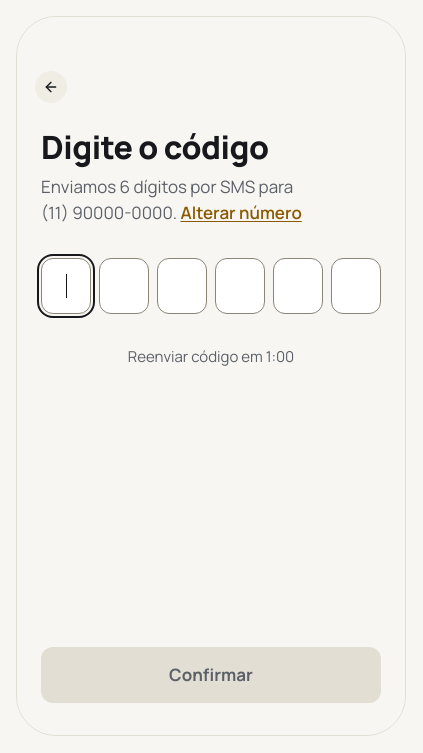
Test: SignInCodePage (screen 04) › "Alterar número" goes back to the phone with the number filled in
Click the button "Alterar número" at point(241, 213), box x1=180 y1=200 x2=302 y2=226
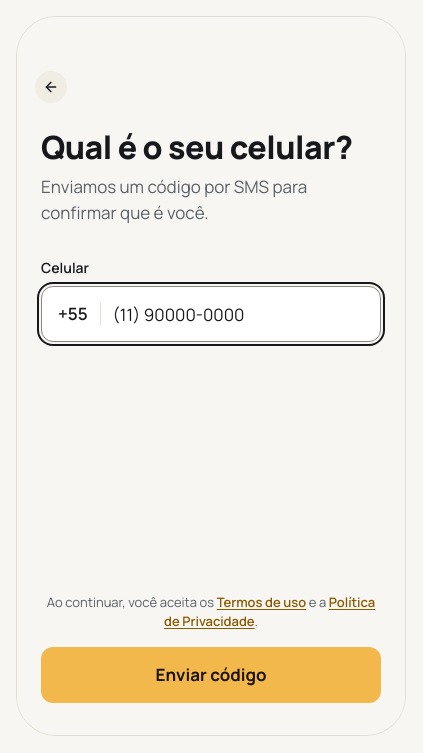
Result: the field labelled "Celular" holds "(11) 90000-0000" at x1=113 y1=287 x2=364 y2=341
